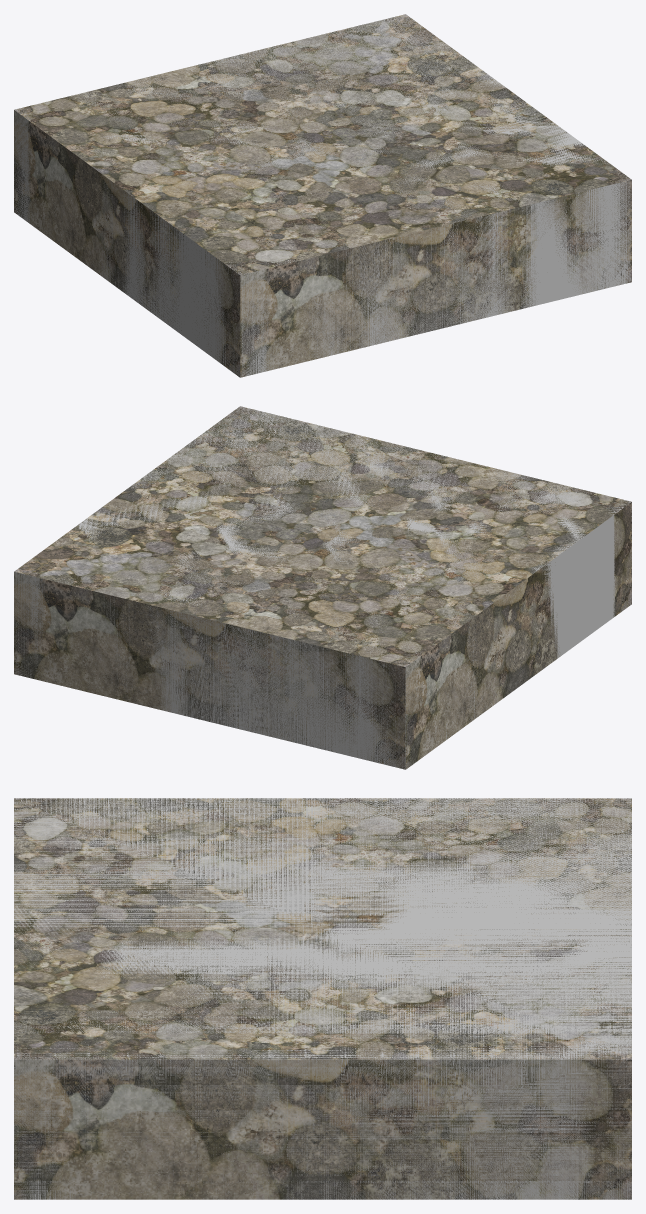
3 renders of one model, top to bottom at view 1: azimuth 30°, elevation 25°; view 2: azimuth 150°, elevation 25°; view 3: azimuth 270°, elevation 25°, orthographic. The views are drawn at different scales.
Parts seen in each view (by area): view 1: SM_Floor_4x4, SM_Floor_4x4_ConvexHulls; view 2: SM_Floor_4x4, SM_Floor_4x4_ConvexHulls; view 3: SM_Floor_4x4, SM_Floor_4x4_ConvexHulls.
Boxes of the visible parts, bbox=[...] form: SM_Floor_4x4: bbox=[14, 14, 631, 377]; SM_Floor_4x4_ConvexHulls: bbox=[14, 15, 631, 377]; SM_Floor_4x4: bbox=[14, 406, 631, 769]; SM_Floor_4x4_ConvexHulls: bbox=[14, 406, 631, 769]; SM_Floor_4x4: bbox=[14, 798, 631, 1199]; SM_Floor_4x4_ConvexHulls: bbox=[14, 798, 631, 1199].
Size of the model in its own units: 400 by 400 by 100.
2 materials, 1 textured.
